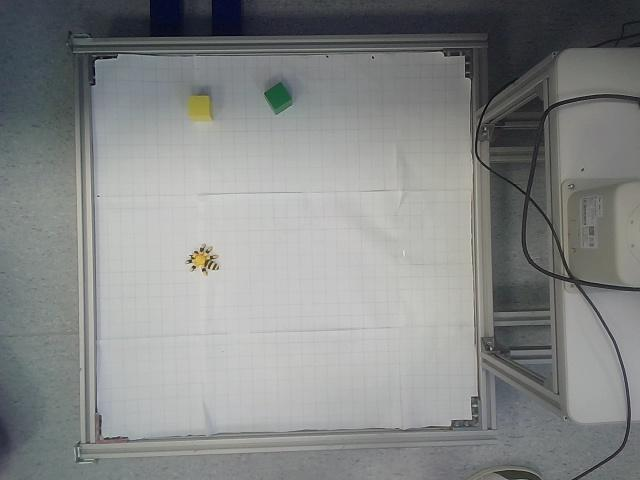frelon: (185, 244, 219, 276)
